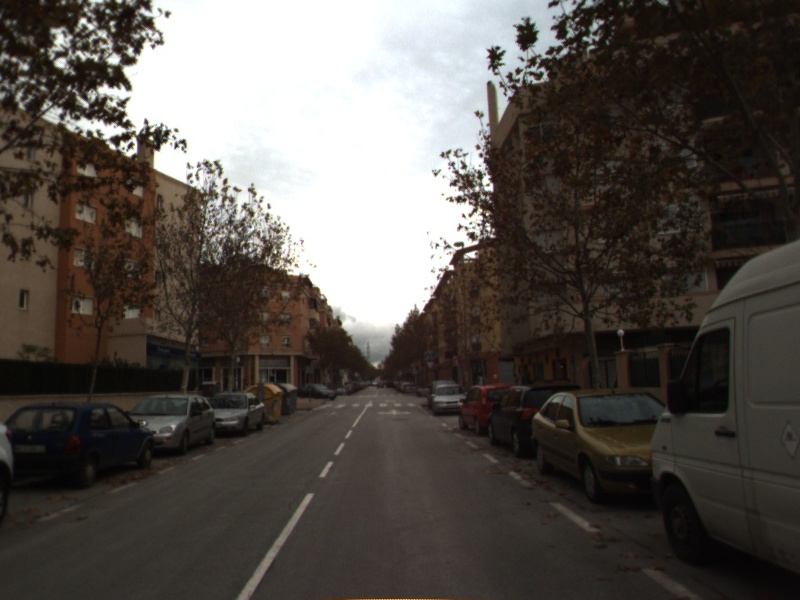STRAIGHT_LEFT_RIGHT: (375, 406, 415, 417)
